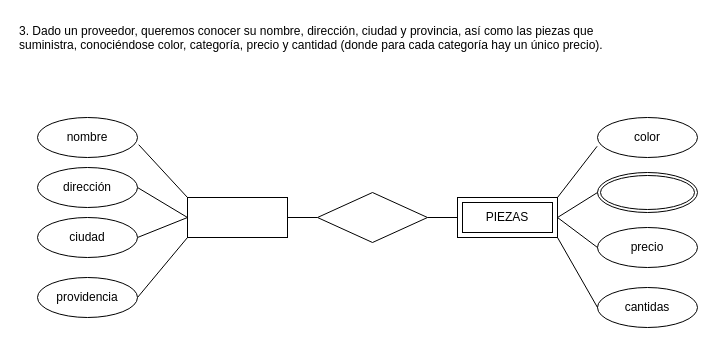
This 715x345 diagram has some shape labels left out. The shapes that lost their labels are listed below. From the top down, each one's box as (x1, y1, x2, y2) in pixels, then its label:
(596, 172, 698, 212): categoría
(186, 196, 288, 238): PROVEDOR
(316, 192, 428, 242): suministra N:N
